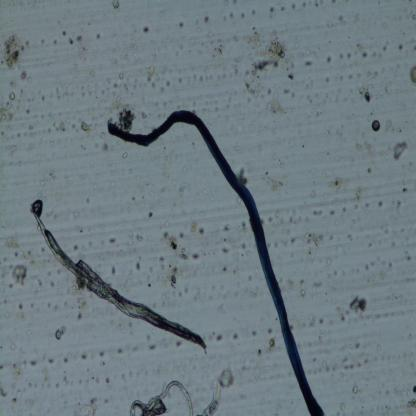Background material: (245, 28, 290, 113), (158, 226, 190, 292), (2, 32, 30, 69), (234, 266, 260, 300), (23, 368, 58, 389), (300, 230, 324, 260), (109, 70, 135, 97), (160, 64, 186, 91), (121, 227, 144, 255), (0, 90, 19, 122), (8, 262, 29, 290), (72, 282, 87, 321), (75, 81, 105, 100), (14, 232, 33, 261), (117, 108, 137, 134), (160, 151, 172, 194), (347, 296, 370, 318), (264, 173, 286, 195), (389, 140, 410, 162), (79, 116, 99, 138), (8, 355, 26, 379), (52, 115, 77, 132), (218, 365, 235, 390), (400, 223, 416, 249), (208, 278, 226, 300), (340, 356, 370, 369), (94, 128, 109, 154), (77, 397, 98, 415), (286, 206, 306, 224), (352, 184, 366, 209), (55, 82, 72, 102), (54, 371, 74, 388), (210, 38, 226, 59), (364, 254, 385, 270), (127, 20, 138, 50), (370, 40, 388, 58), (123, 338, 141, 356), (357, 84, 373, 104), (355, 40, 370, 61), (364, 137, 375, 165), (297, 312, 317, 327), (327, 177, 344, 194), (282, 228, 298, 246), (404, 385, 416, 409), (36, 175, 49, 197), (252, 339, 265, 361), (42, 298, 59, 314), (374, 311, 404, 320), (11, 299, 25, 318), (314, 274, 327, 294), (53, 322, 66, 342), (288, 51, 300, 72), (334, 126, 346, 146), (324, 268, 341, 282), (268, 210, 282, 226), (80, 374, 97, 387), (265, 336, 277, 354), (194, 282, 206, 300), (386, 114, 398, 132), (322, 359, 336, 374), (21, 92, 31, 113), (368, 117, 382, 132), (238, 166, 249, 185), (238, 238, 251, 254), (143, 188, 155, 205), (10, 128, 30, 138), (189, 96, 200, 114), (32, 194, 43, 212), (66, 34, 84, 45), (333, 401, 346, 416), (145, 66, 157, 82), (266, 2, 278, 18), (336, 306, 348, 322), (407, 66, 416, 87), (5, 144, 18, 158), (347, 340, 362, 352), (308, 336, 326, 346), (390, 198, 402, 212), (128, 190, 140, 204), (25, 396, 37, 410), (351, 124, 360, 142), (148, 267, 156, 287), (248, 322, 258, 338), (286, 274, 296, 290), (176, 17, 186, 33), (366, 67, 379, 79), (21, 71, 35, 82), (33, 274, 44, 288), (10, 392, 22, 404), (38, 244, 48, 258), (0, 382, 8, 399), (299, 280, 306, 299), (304, 58, 315, 70), (381, 405, 393, 416), (348, 265, 361, 275), (335, 68, 345, 81), (384, 82, 394, 95), (337, 9, 346, 23), (348, 88, 357, 102), (221, 222, 232, 233), (404, 250, 414, 262), (23, 123, 38, 131), (201, 13, 211, 25), (111, 0, 121, 12), (191, 251, 201, 262), (107, 236, 118, 246), (327, 233, 337, 244), (220, 246, 232, 255), (410, 36, 416, 54), (149, 78, 158, 90), (175, 339, 184, 351), (246, 158, 254, 171), (67, 241, 77, 251), (50, 36, 60, 46), (327, 207, 338, 216), (376, 269, 387, 278), (386, 259, 395, 269), (141, 25, 150, 35), (365, 202, 374, 212), (228, 332, 237, 342), (80, 351, 89, 361), (9, 78, 17, 89), (223, 104, 234, 112), (341, 202, 348, 214), (345, 49, 352, 61), (321, 92, 329, 102), (314, 207, 324, 215), (82, 196, 90, 206), (215, 332, 223, 342), (287, 72, 295, 82), (380, 146, 388, 156), (397, 40, 404, 51), (147, 344, 158, 351), (394, 385, 401, 396), (328, 19, 335, 30), (94, 29, 101, 40), (348, 233, 355, 244), (376, 343, 384, 352), (306, 80, 314, 89), (121, 149, 129, 158), (402, 186, 410, 195), (305, 96, 313, 105), (47, 356, 55, 365), (144, 333, 152, 342), (241, 10, 247, 22), (135, 260, 141, 272), (117, 344, 124, 354), (195, 19, 201, 30), (124, 50, 130, 61), (315, 350, 328, 355), (357, 140, 362, 153), (316, 318, 324, 326), (351, 386, 359, 394), (198, 227, 206, 235), (290, 2, 298, 10), (337, 51, 345, 59), (324, 76, 332, 84), (277, 161, 286, 168), (177, 187, 184, 196), (383, 387, 390, 396), (3, 308, 9, 318), (273, 239, 279, 249), (224, 74, 239, 78), (111, 264, 116, 276), (0, 128, 6, 138), (366, 167, 373, 175), (10, 344, 18, 351), (241, 393, 248, 401), (268, 328, 275, 336), (330, 0, 338, 7), (88, 68, 95, 76), (103, 376, 110, 384), (408, 164, 415, 172), (347, 71, 354, 79), (354, 70, 360, 79), (222, 265, 228, 274), (325, 56, 330, 66), (364, 376, 370, 384), (314, 92, 320, 100), (226, 12, 234, 18), (412, 10, 416, 22), (92, 182, 98, 190), (330, 286, 339, 291), (40, 94, 45, 103), (408, 360, 414, 367), (309, 356, 316, 362), (379, 201, 385, 208), (30, 360, 38, 365), (376, 395, 382, 401), (312, 190, 316, 199), (332, 298, 338, 304), (390, 241, 395, 248), (374, 355, 379, 362), (61, 29, 66, 36), (148, 212, 153, 219), (350, 156, 354, 164), (0, 365, 5, 371), (385, 228, 390, 234), (404, 353, 408, 359), (294, 316, 297, 324), (303, 3, 306, 7)
Cellulose filter fibre: (33, 206, 208, 352), (122, 375, 228, 415)
Cotton: (105, 109, 324, 415)
